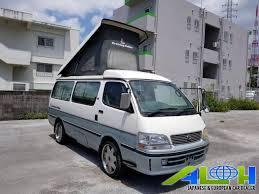van: (48, 73, 214, 179)
